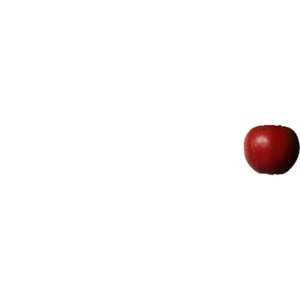maçã braeburn: (242, 122, 298, 178)
